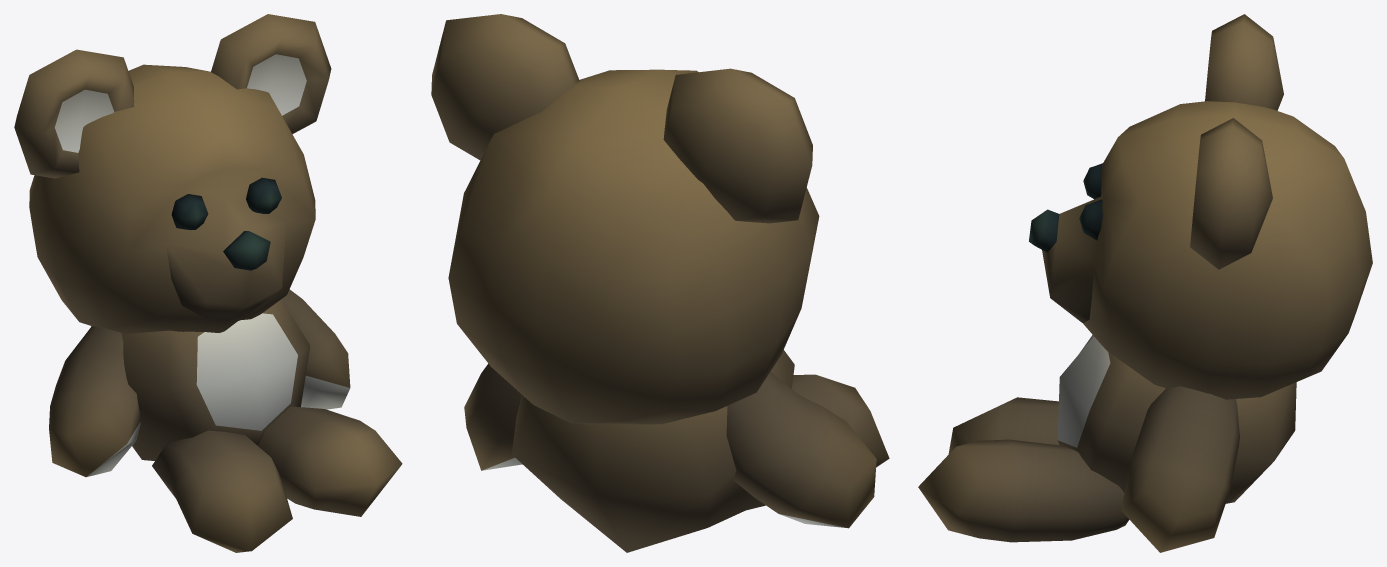
The model's file is teddy2_LOD_setup.fbx.
3 renders of one model, left to right at view 1: azimuth 30°, elevation 25°; view 2: azimuth 150°, elevation 25°; view 3: azimuth 270°, elevation 25°, orthographic. The views are drawn at different scales.
Visible parts, largest first — view 1: teddy2_LOD0; view 2: teddy2_LOD0; view 3: teddy2_LOD0.
Part boxes in pixels (x1,y1,x2,y2): teddy2_LOD0: (14, 14, 402, 552); teddy2_LOD0: (431, 14, 889, 552); teddy2_LOD0: (918, 14, 1372, 552).
Size of what is drawn, in the model's own units: 31.83 by 42.33 by 37.96.
